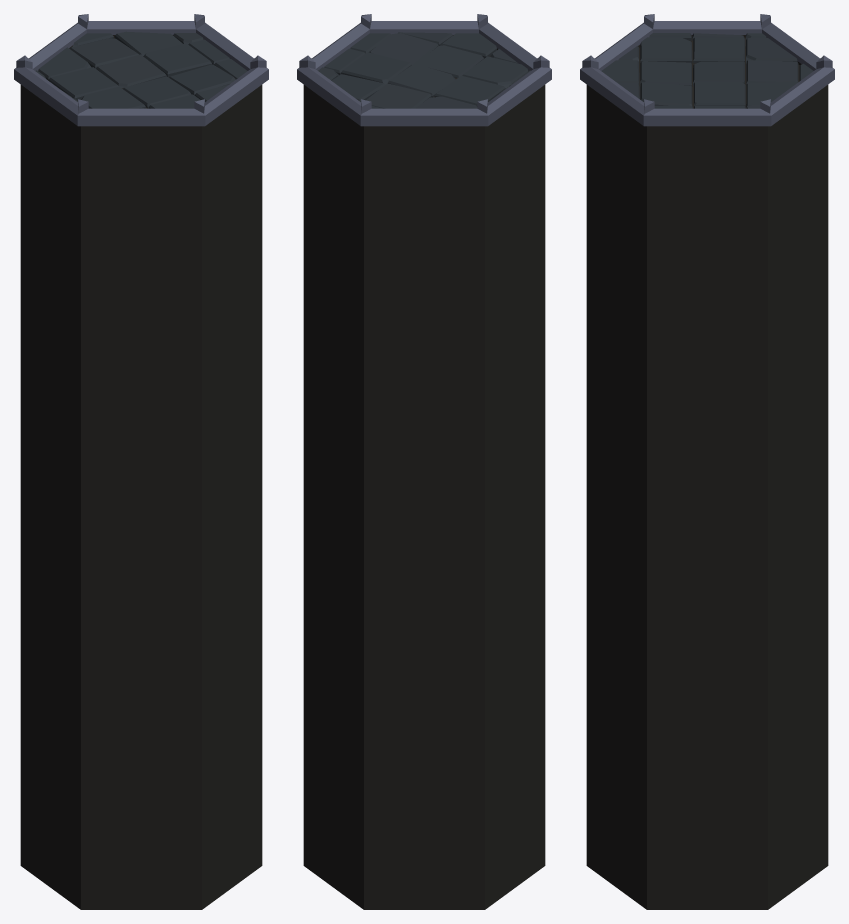
Rendered from DefTile.fbx.
3 views of the same model, side by side, from view 1: azimuth 30°, elevation 25°; view 2: azimuth 150°, elevation 25°; view 3: azimuth 270°, elevation 25° (orthographic).
Visible parts, largest first — view 1: Tile.001; view 2: Tile.001; view 3: Tile.001.
Boxes of the visible parts, x1=… form: Tile.001: x1=14, y1=14, x2=268, y2=909; Tile.001: x1=297, y1=14, x2=551, y2=909; Tile.001: x1=580, y1=14, x2=834, y2=909.
Bounding box in the file's own units: 1.73 × 7 × 2.
